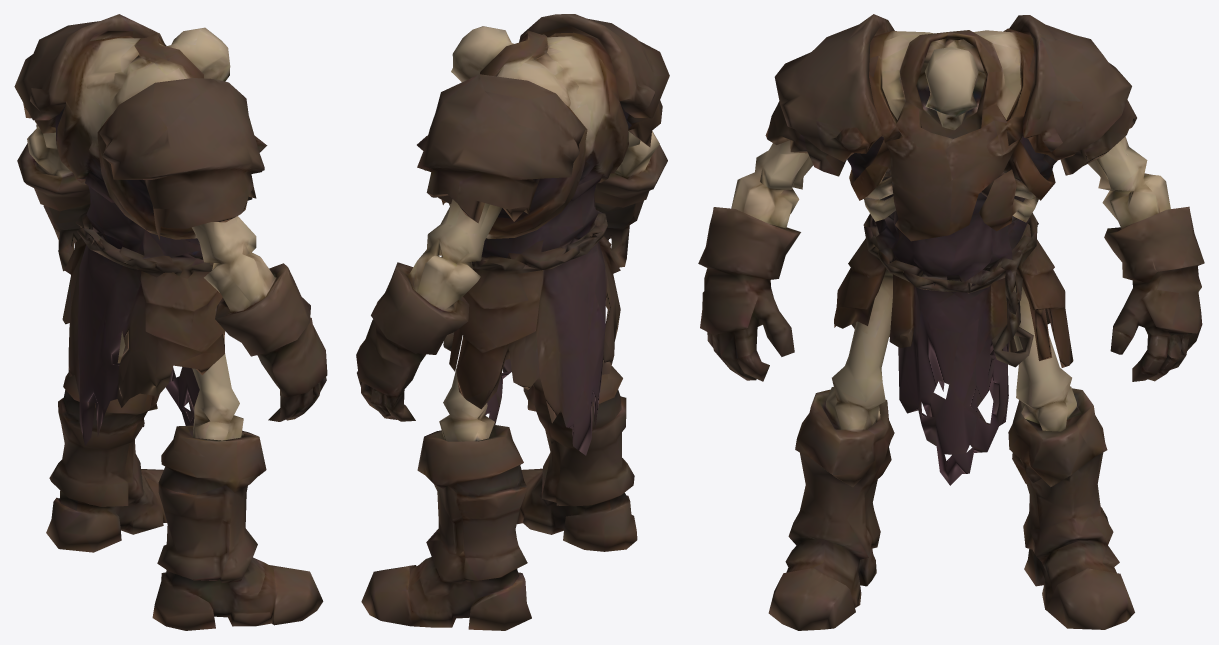
The model's file is model-creature-forgotten-brute-01.glb.
3 views of the same model, side by side, from view 1: azimuth 30°, elevation 25°; view 2: azimuth 150°, elevation 25°; view 3: azimuth 270°, elevation 25° (orthographic). The views are drawn at different scales.
Parts seen in each view (by area): view 1: tripo_node_02dd1199-bdb5-402e-b5d2-75ecdd964103; view 2: tripo_node_02dd1199-bdb5-402e-b5d2-75ecdd964103; view 3: tripo_node_02dd1199-bdb5-402e-b5d2-75ecdd964103.
Boxes of the visible parts, x1,y1,x2,y2 form: tripo_node_02dd1199-bdb5-402e-b5d2-75ecdd964103: (14, 14, 327, 630); tripo_node_02dd1199-bdb5-402e-b5d2-75ecdd964103: (356, 14, 669, 630); tripo_node_02dd1199-bdb5-402e-b5d2-75ecdd964103: (698, 14, 1204, 630).
Bounding box in the file's own units: 0.7537 × 2.1 × 1.73.
Materials: 1 (1 with a texture image).
